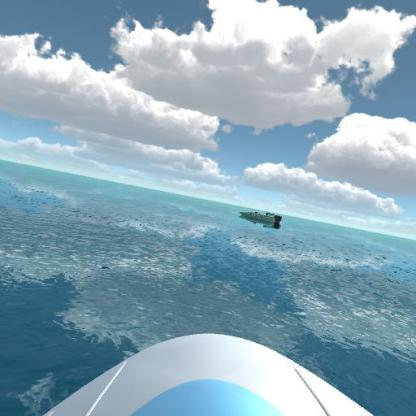usv0: (238, 206, 286, 232)
